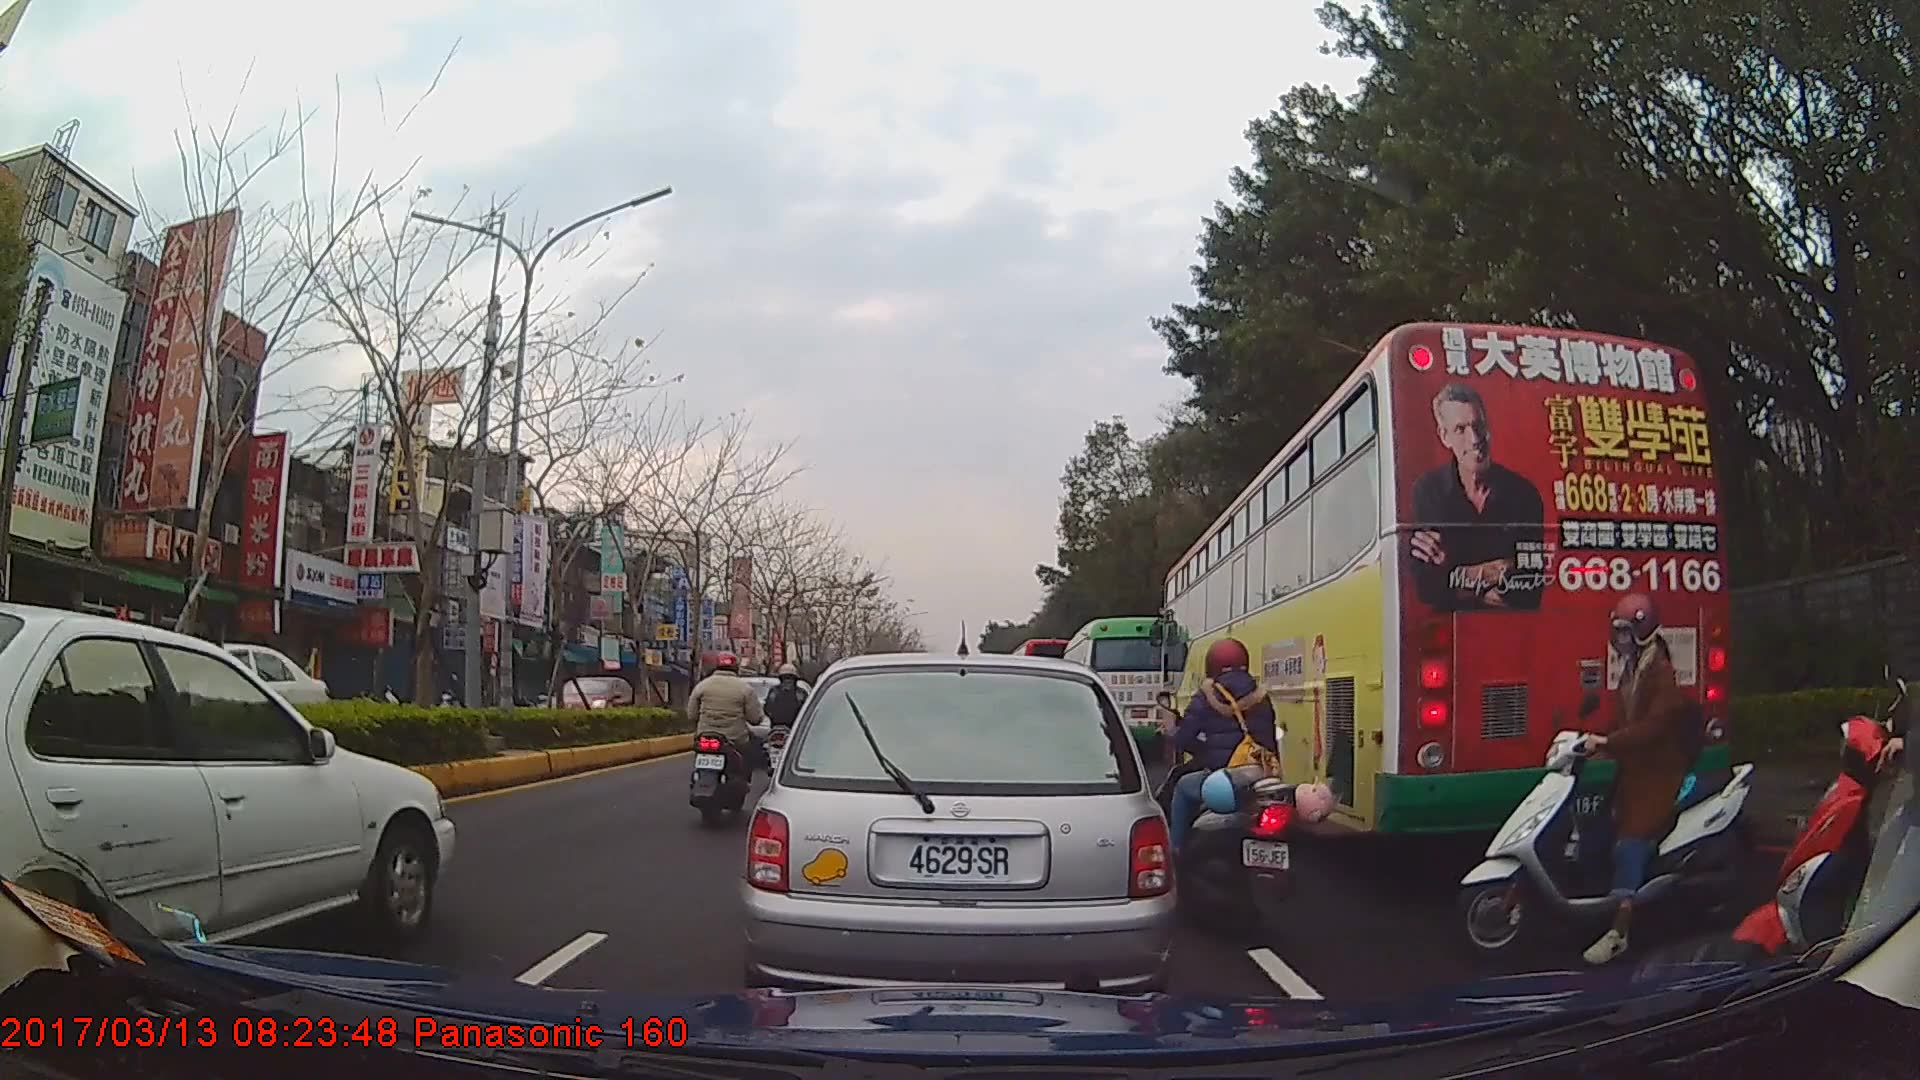rider: (1453, 591, 1753, 958), (1734, 541, 1920, 1006), (1145, 640, 1334, 945), (685, 651, 762, 826), (764, 664, 812, 767)
vehicle: (1159, 319, 1730, 846), (0, 588, 456, 962), (739, 652, 1177, 1001), (99, 634, 340, 743), (1061, 615, 1171, 760), (542, 673, 637, 733)
